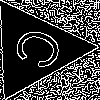C: (10, 24, 75, 78)
